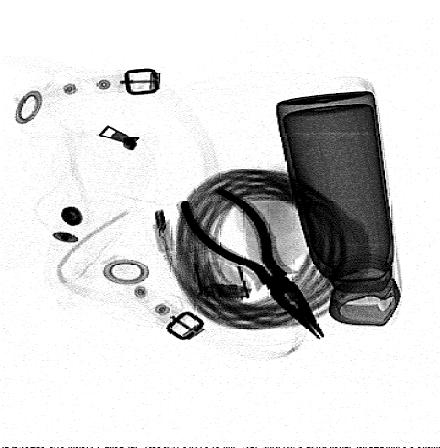Pliers: (182, 185, 326, 341)
